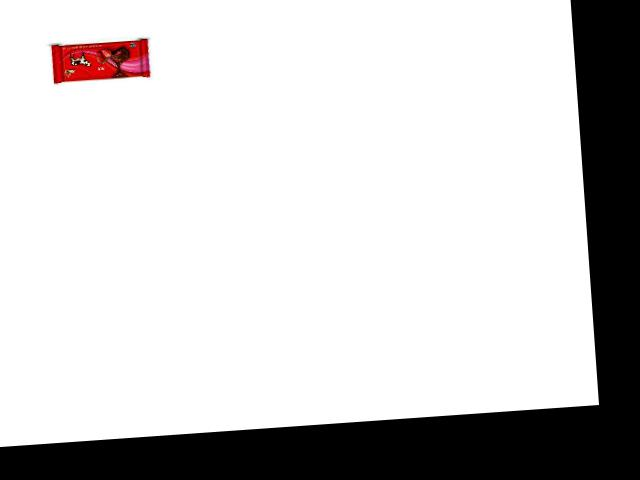chocolate: (43, 31, 150, 83)
